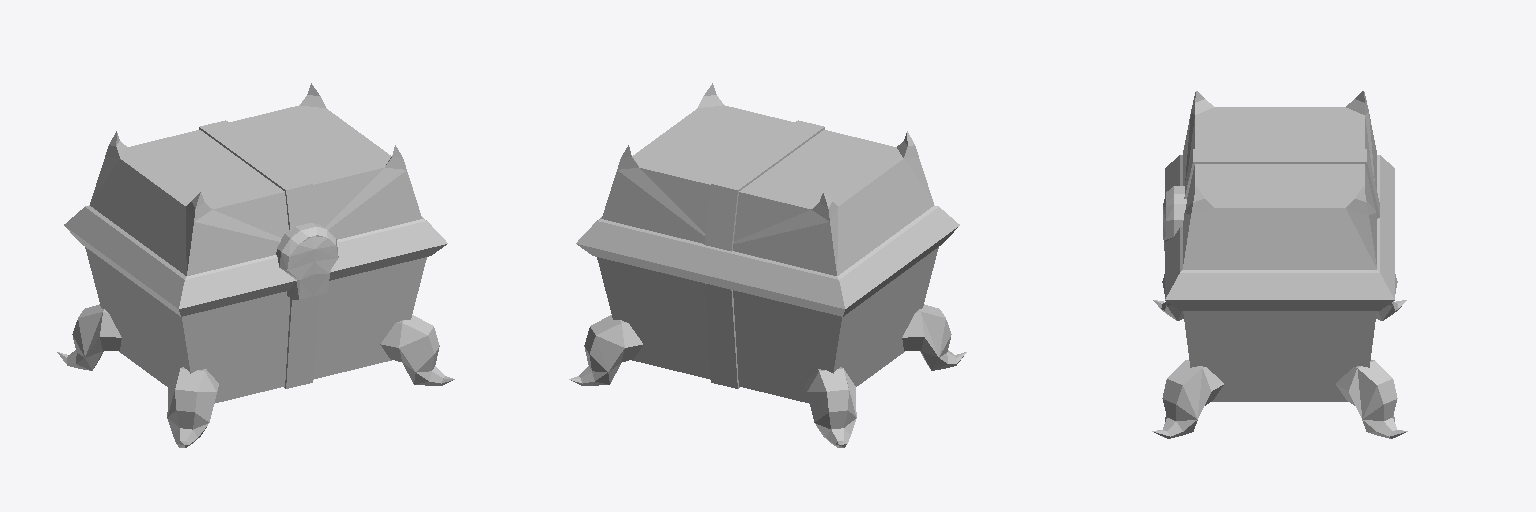
The model's file is treasure_chest.obj.
3 renders of one model, left to right at view 1: azimuth 30°, elevation 25°; view 2: azimuth 150°, elevation 25°; view 3: azimuth 270°, elevation 25°, orthographic.
Parts seen in each view (by area): view 1: treasurechest; view 2: treasurechest; view 3: treasurechest.
Boxes of the visible parts, x1,y1,x2,y2 form: treasurechest: [57, 83, 454, 447]; treasurechest: [569, 83, 966, 447]; treasurechest: [1152, 91, 1407, 438].
Bounding box in the file's own units: 104 × 87.32 × 85.79.